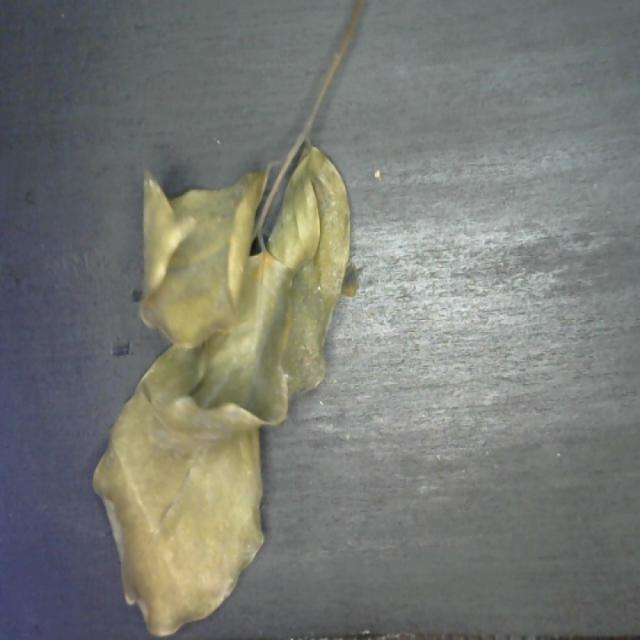biodegradable: (88, 132, 360, 639)
